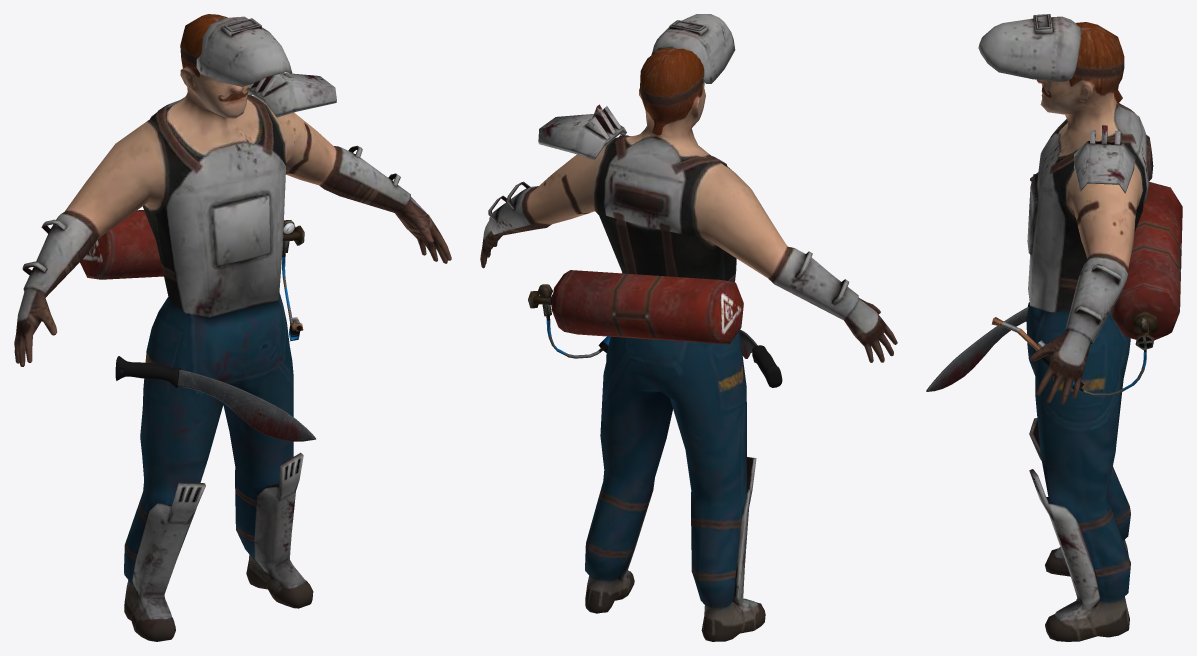
Rendered from welder-figure.glb.
3 renders of one model, left to right at view 1: azimuth 30°, elevation 25°; view 2: azimuth 150°, elevation 25°; view 3: azimuth 270°, elevation 25°, orthographic. The views are drawn at different scales.
Visible parts, largest first — view 1: _, kukri_kukri_0; view 2: _, kukri_kukri_0; view 3: _, kukri_kukri_0.
Part boxes in pixels (x1,y1,x2,y2): _: [14, 14, 451, 641]; kukri_kukri_0: [115, 356, 315, 441]; _: [480, 14, 897, 641]; kukri_kukri_0: [739, 329, 782, 387]; _: [978, 14, 1182, 641]; kukri_kukri_0: [926, 302, 1029, 391].
Size of the model in its own units: 1.33 by 1.78 by 0.7082.
2 materials, 2 textured.
